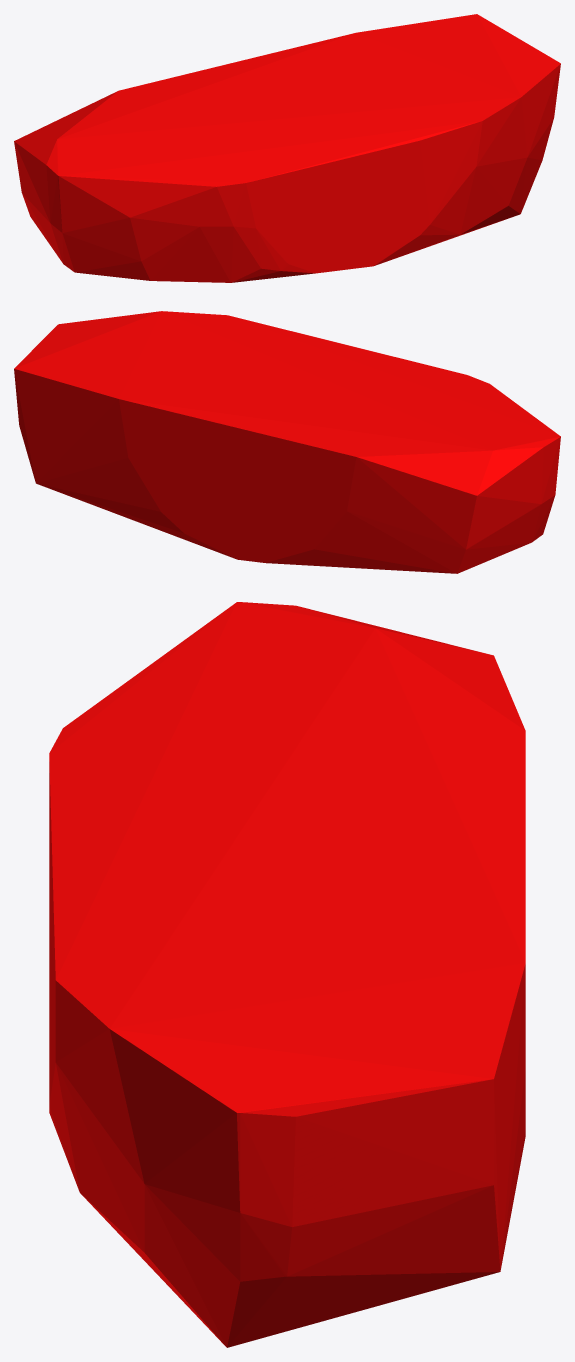
Rendered from tip_006_1_convex_hull_01.obj.
3 views of the same model, one above another, from view 1: azimuth 30°, elevation 25°; view 2: azimuth 150°, elevation 25°; view 3: azimuth 270°, elevation 25° (orthographic). The views are drawn at different scales.
Parts seen in each view (by area): view 1: tip_006_1_convex_hull_01; view 2: tip_006_1_convex_hull_01; view 3: tip_006_1_convex_hull_01.
Part boxes in pixels (left/top/right/bottom): tip_006_1_convex_hull_01: left=14, top=14, right=560, bottom=282; tip_006_1_convex_hull_01: left=14, top=311, right=560, bottom=573; tip_006_1_convex_hull_01: left=49, top=602, right=525, bottom=1347.
Bounding box in the file's own units: 0.00482 × 0.00139 × 0.00198.
